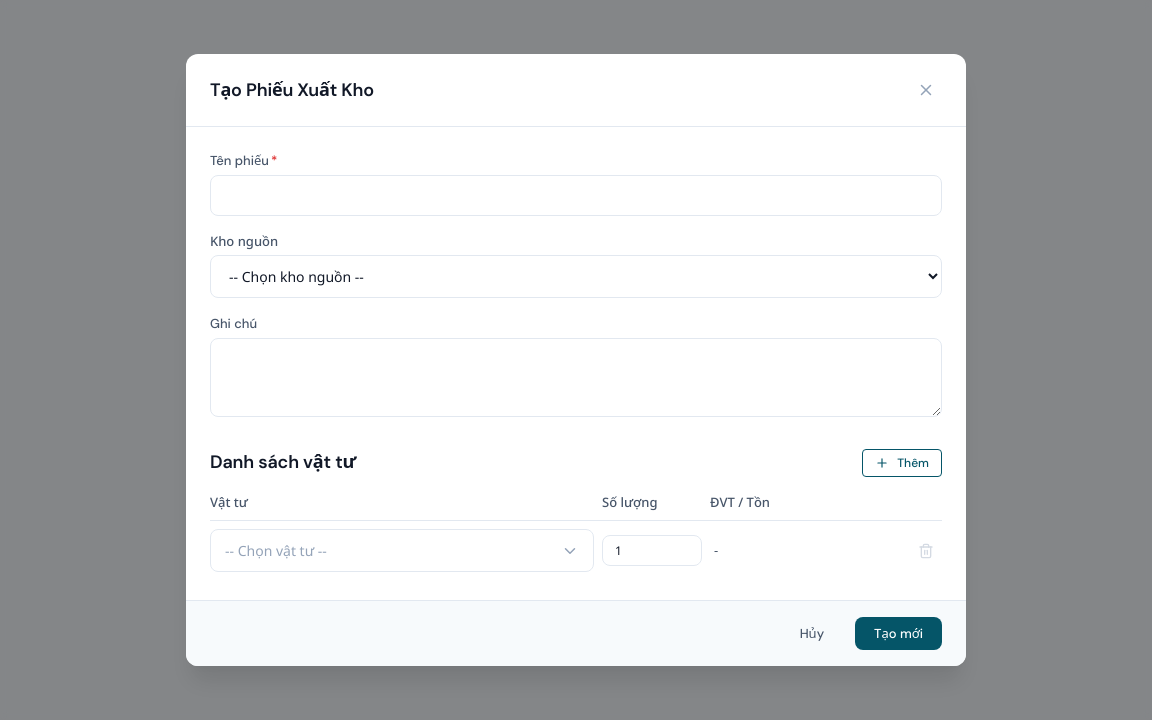
StockEntryForm › shows error toast when API returns custom error structure
The image size is (1152, 720).
Type "PX002" into the field labelled "Tên phiếu*" at (576, 195), box [210,174,942,216]
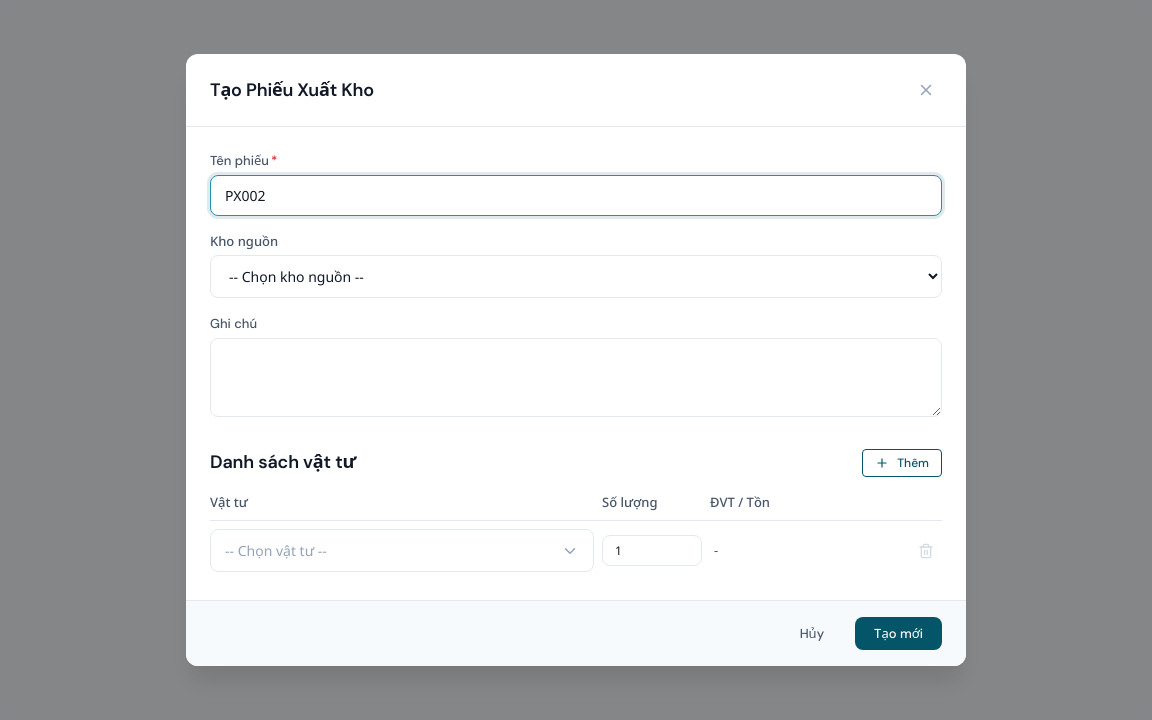
Select "Kho 1" in the dropdown labelled "Kho nguồn" at (576, 276), box [210,255,942,298]
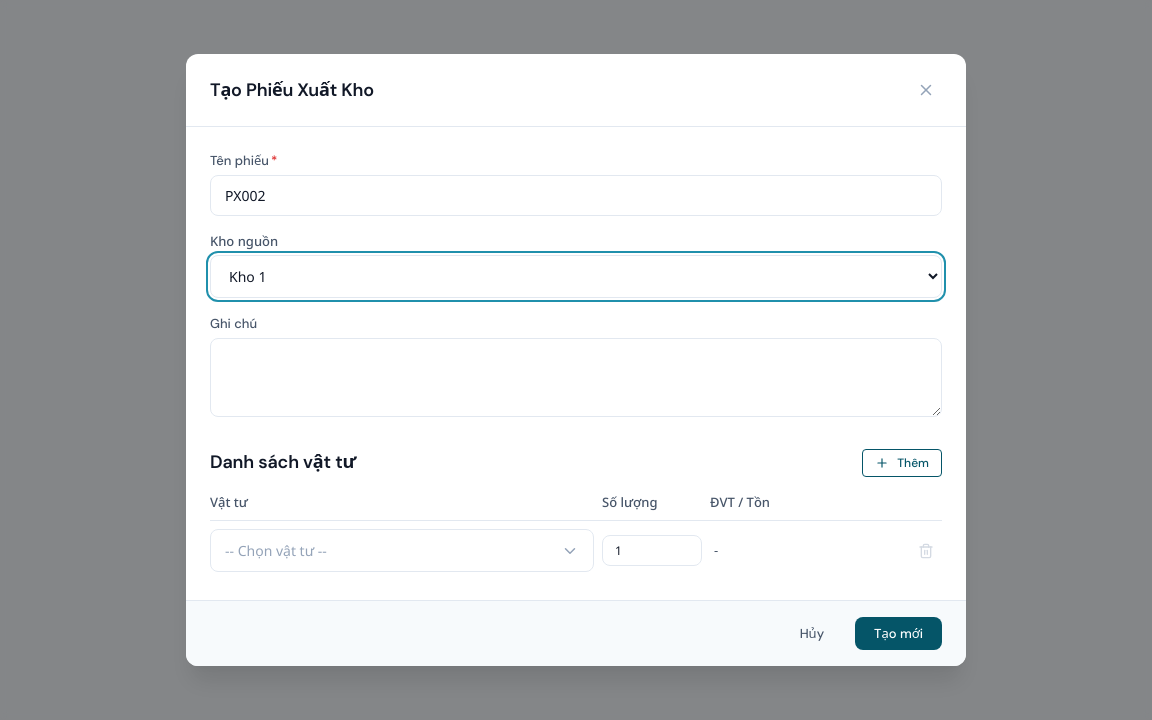
Click the dropdown named "Mã vật tư" at (402, 550), box [210,529,594,572]
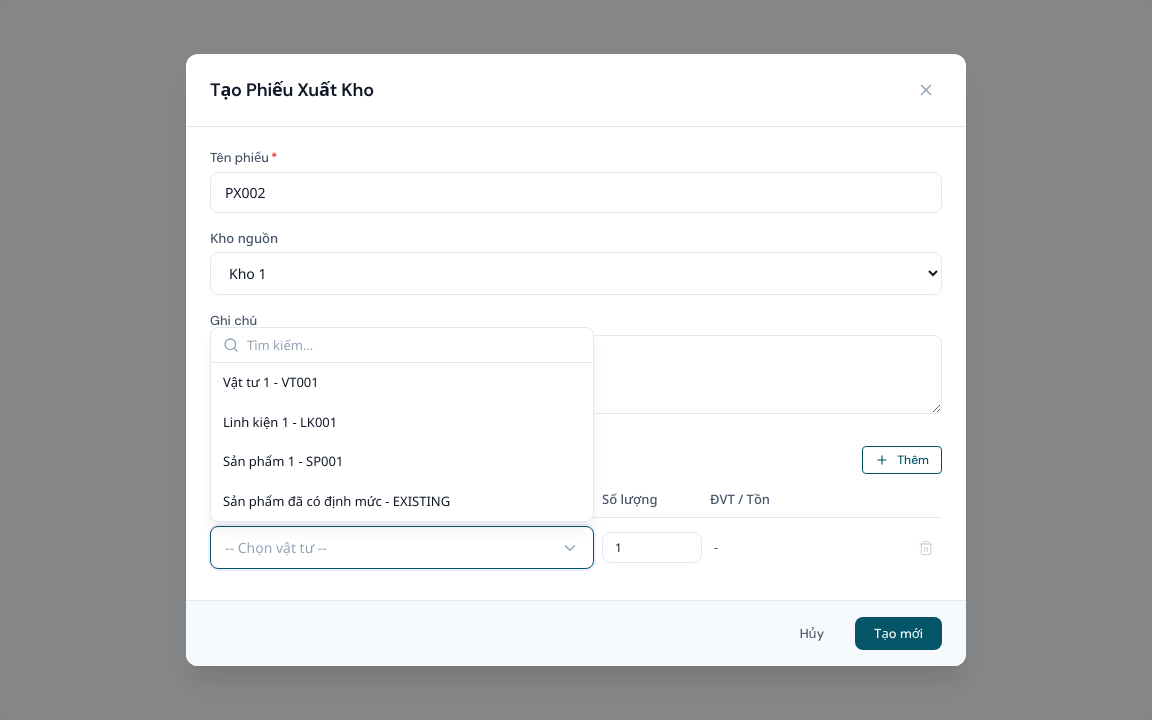
Click the option "Vật tư 1 - VT001" at (271, 382), box [223,373,319,391]
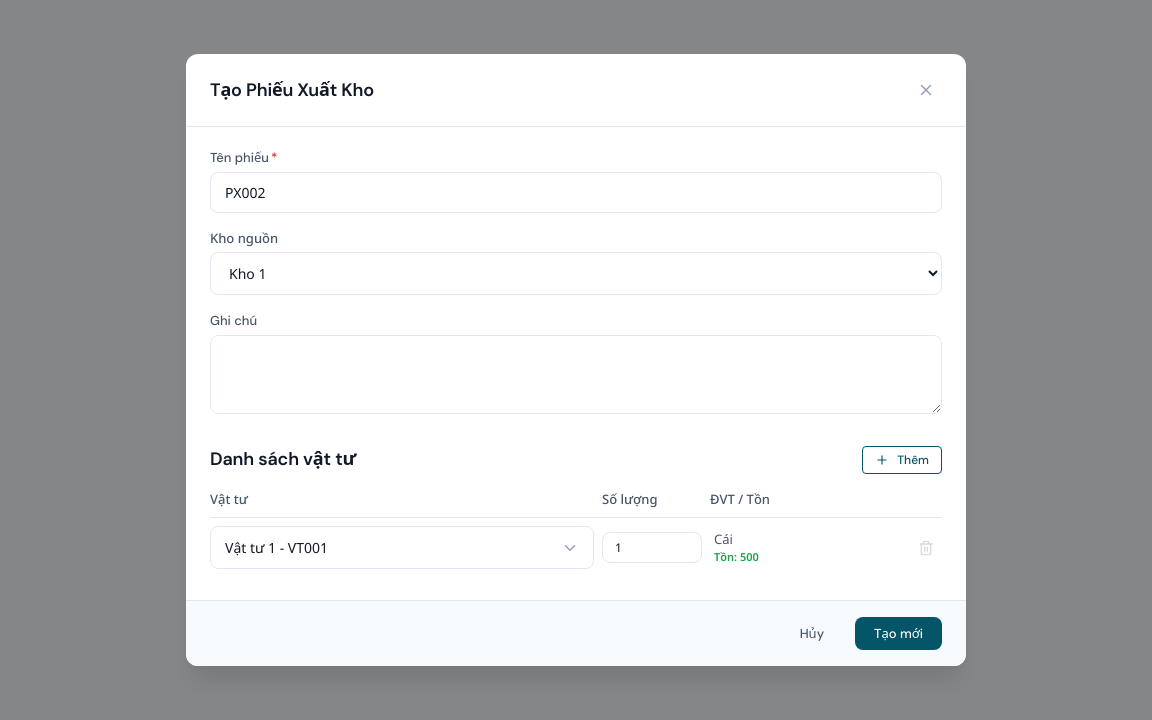
Click the button "Tạo mới" at (899, 634), box [855,617,942,650]
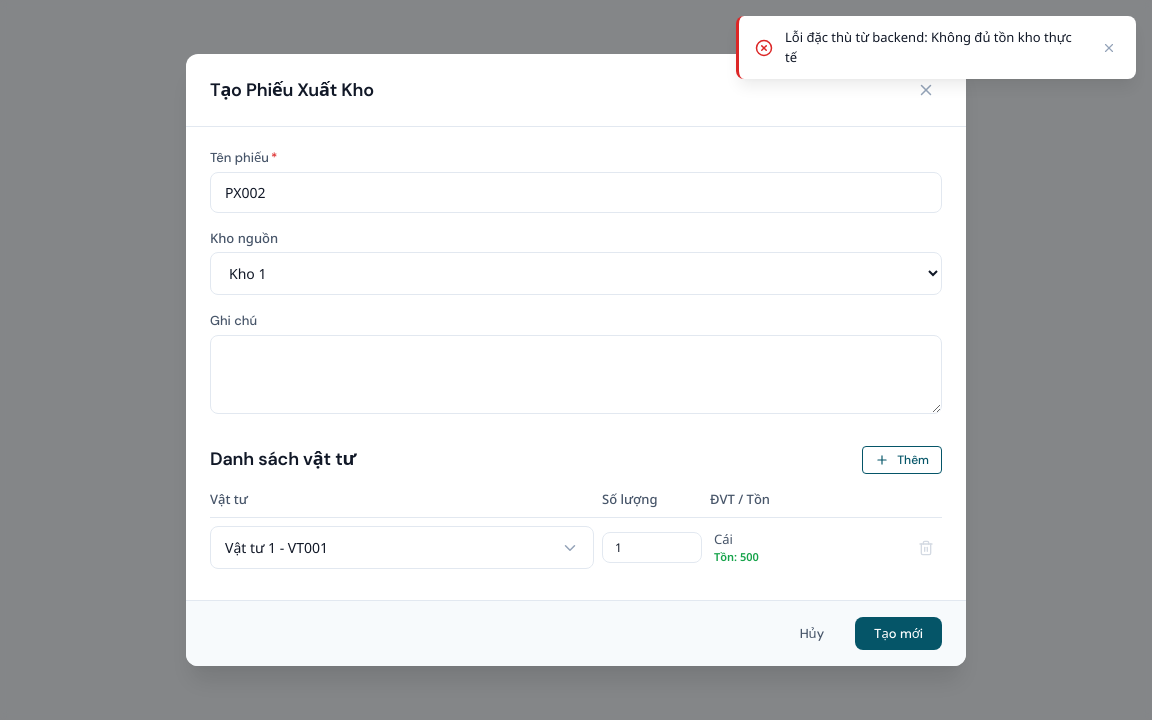
Expected: the text "Lỗi đặc thù từ backend: Không đủ tồn kho thực tế" is shown, [785,28,1086,67]
